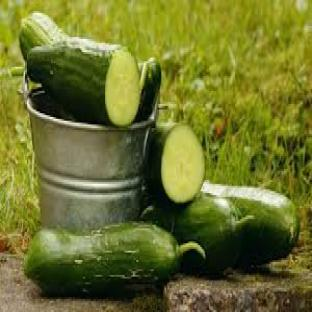Cucumber: (24, 223, 204, 295), (27, 38, 140, 126), (141, 195, 252, 274), (202, 182, 299, 267), (147, 123, 204, 204), (19, 12, 67, 61), (136, 58, 161, 122)
